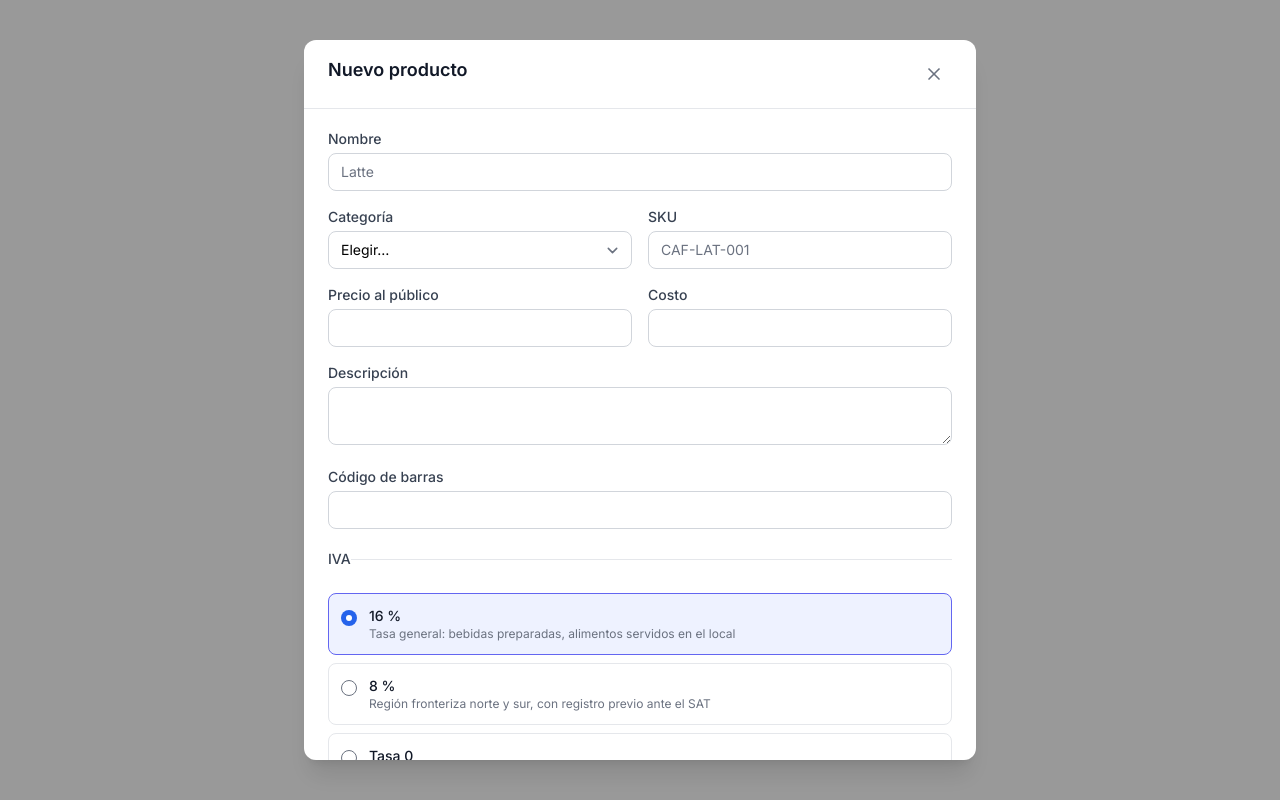
ProductoModal › previsualización del IVA › al desmarcarlo el IVA se suma encima y $100 se cobran como $116
The image size is (1280, 800).
Type "100" into the number field labelled "Precio al público".
click(480, 328); type("100")  # box [328,309,632,347]
(page scrolled)
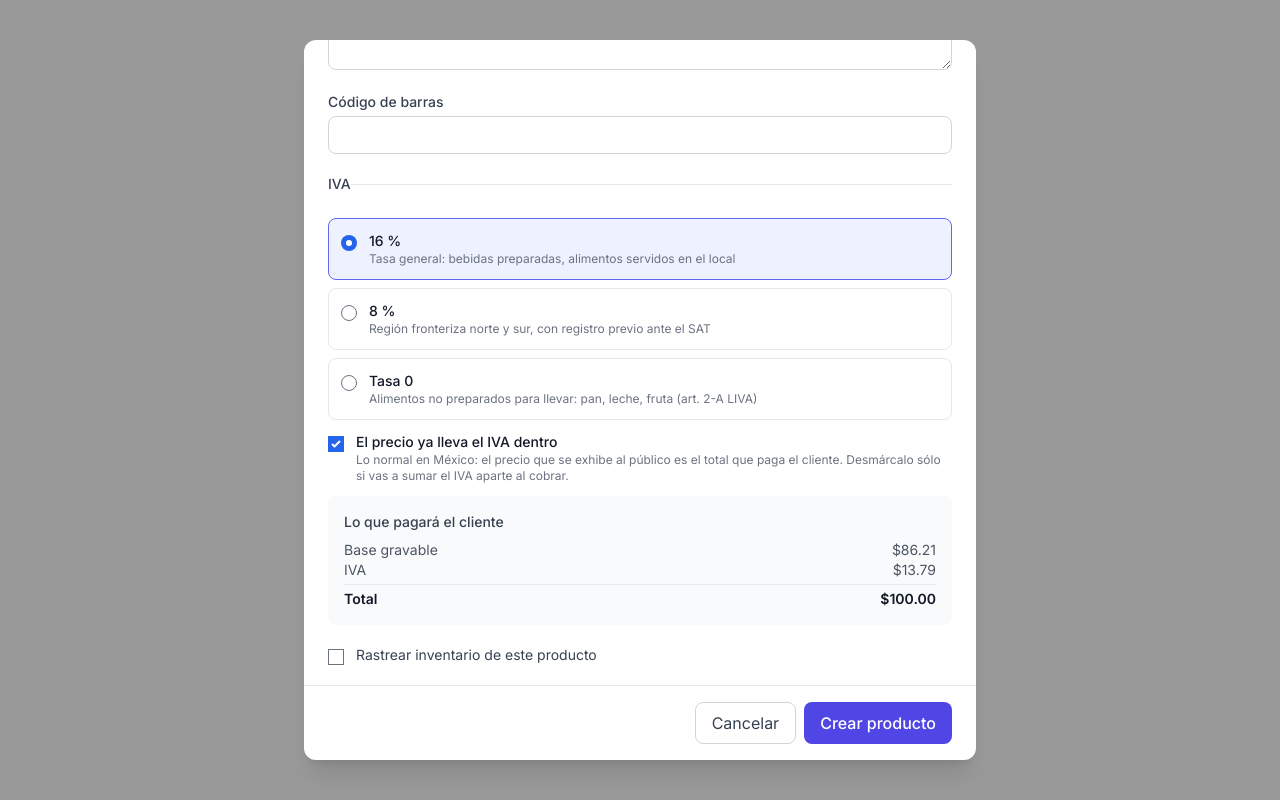
Click the checkbox labelled "ya lleva el IVA dentro".
click(336, 444)  # box [328,436,344,452]
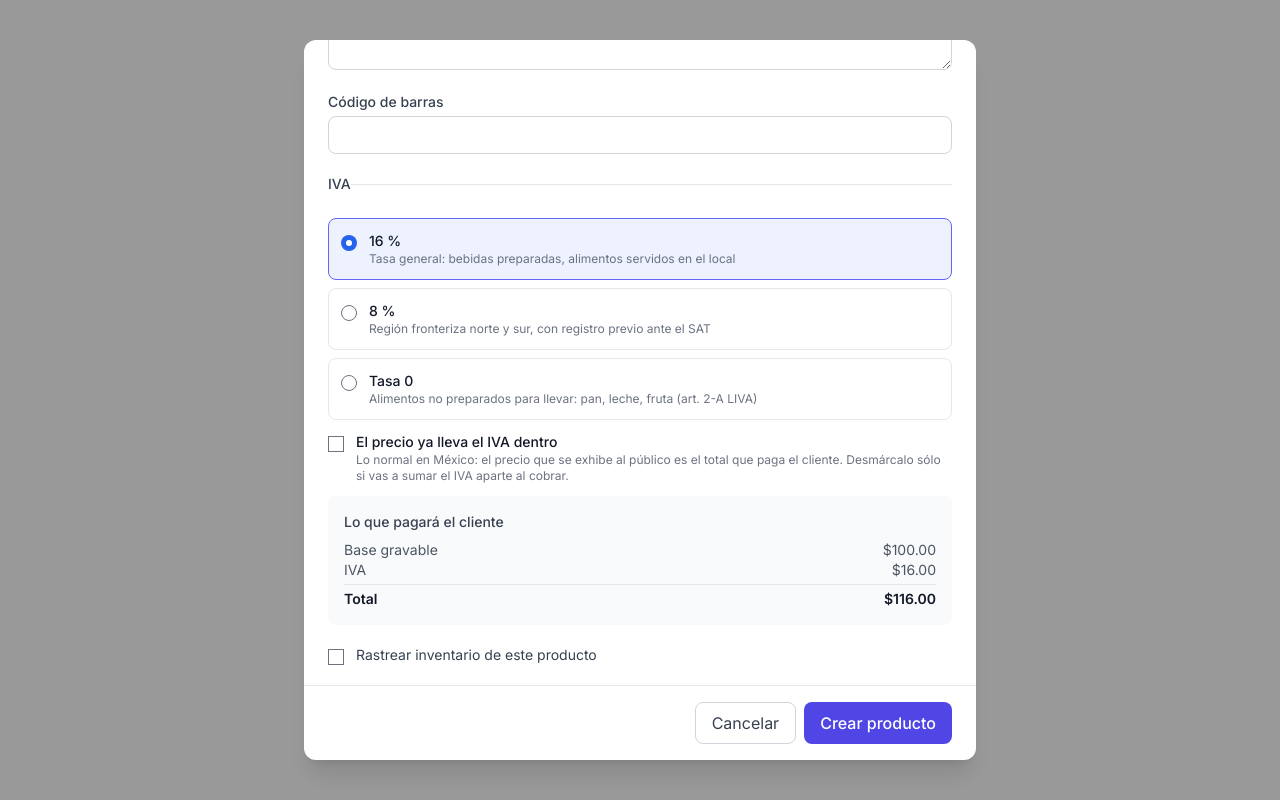
Check: the text "$116.00" is shown, box [884,589,936,609]
Check: the text "$16.00" is shown, box [892,560,936,580]
